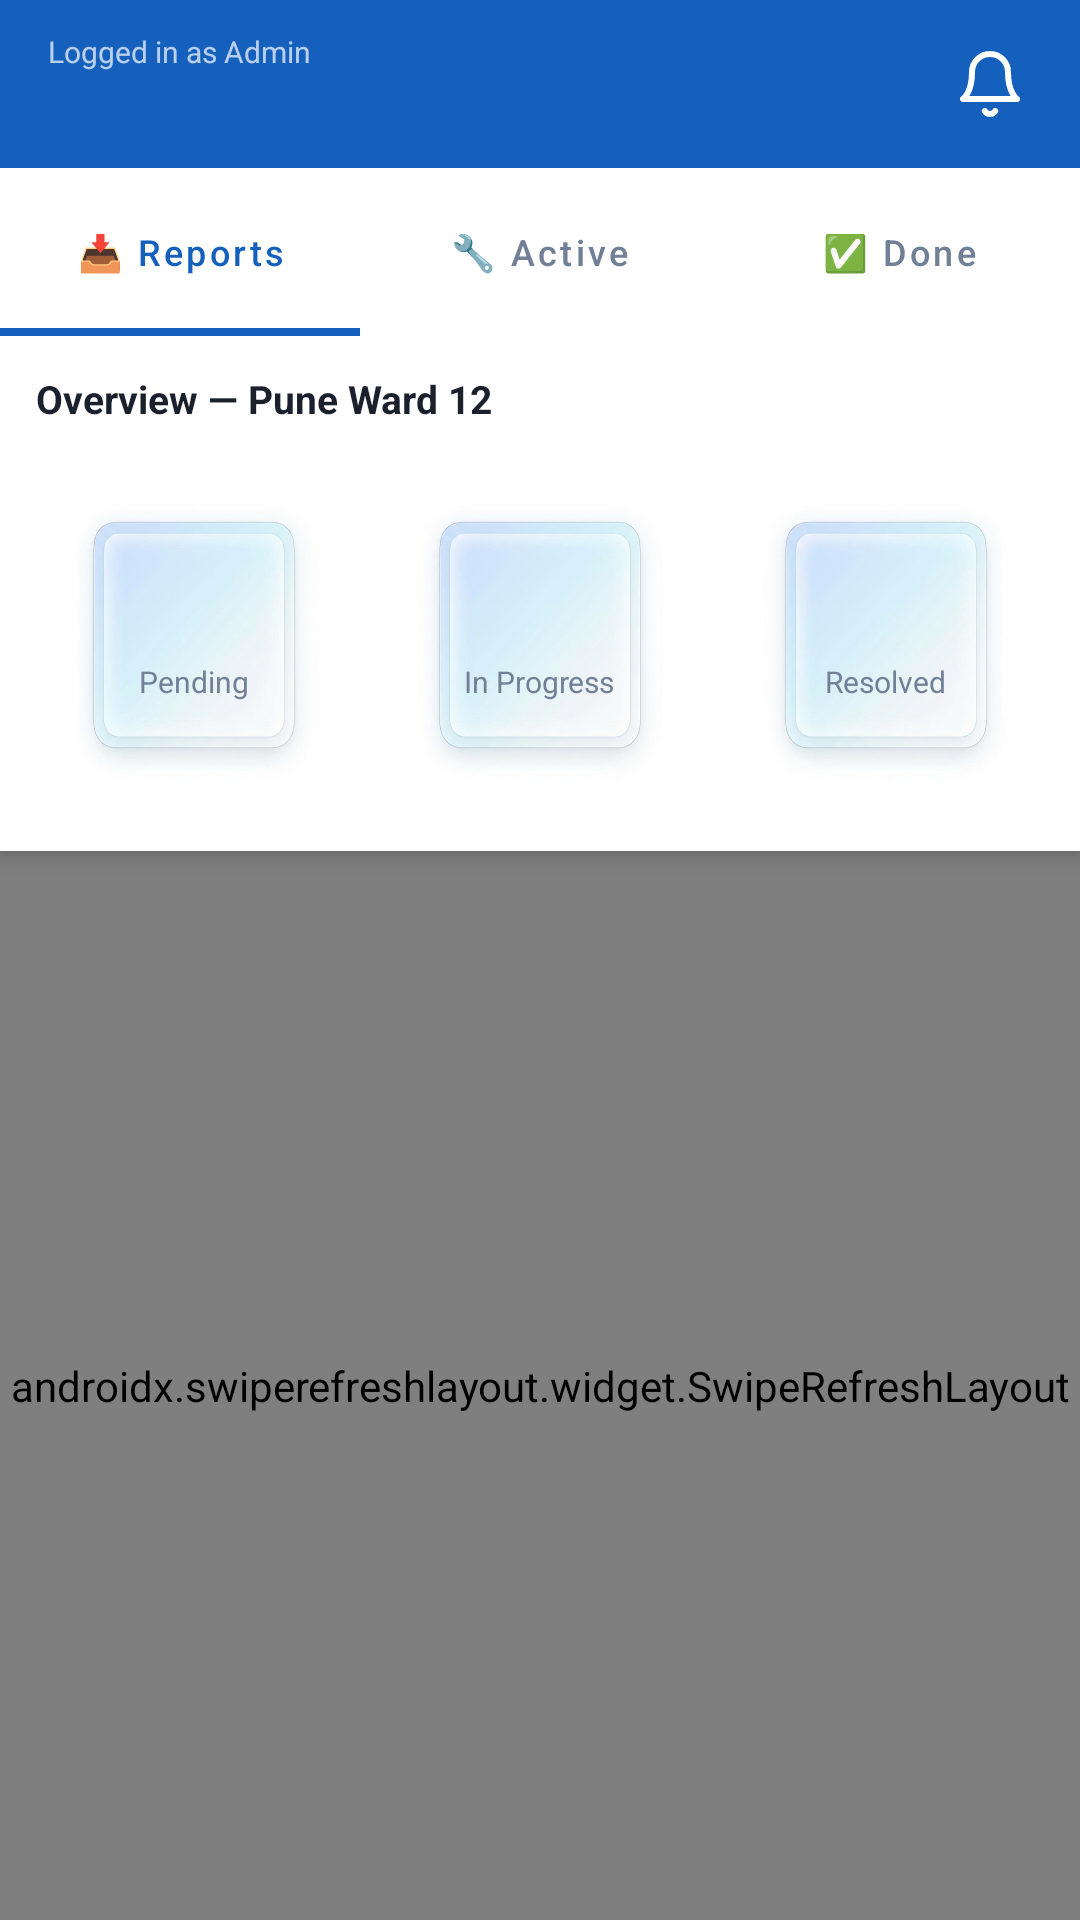

Named icons in this screenshot (1080px×1920px) and their centers, (x,y):
Notifications: (990,84)
